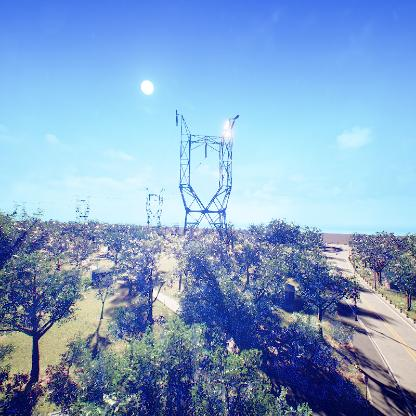tower: (172, 107, 240, 267)
